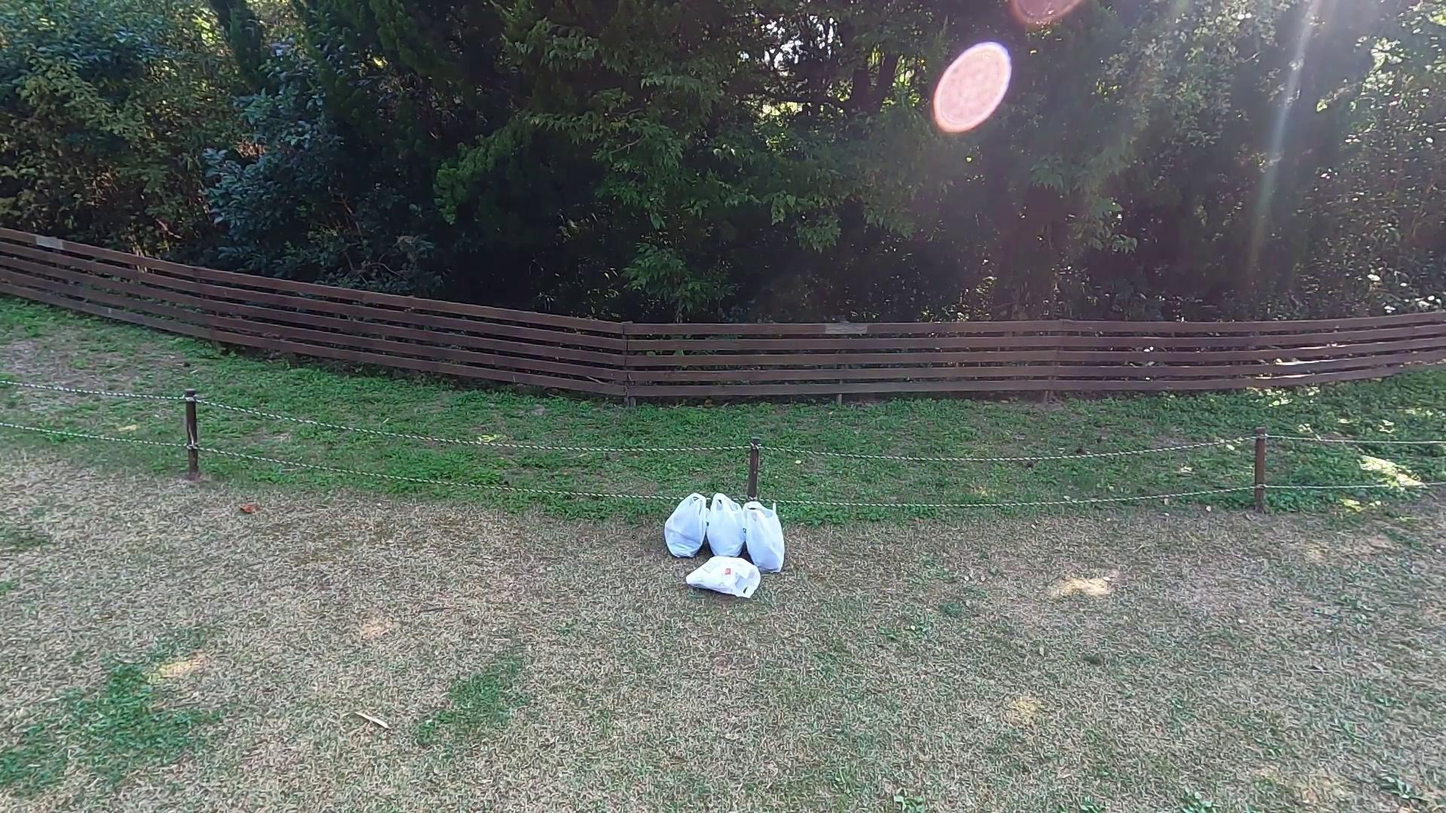trash: (687, 545, 774, 602), (741, 497, 784, 581), (701, 491, 749, 562), (668, 490, 711, 556)
